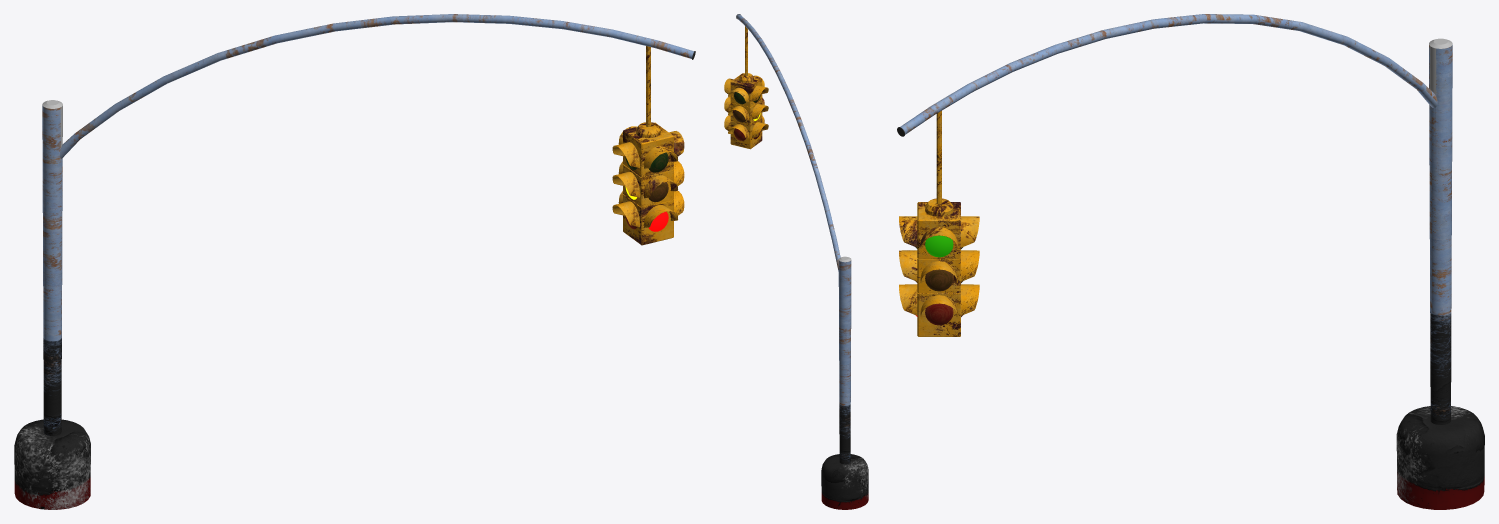
The model's file is Signal.glb.
The picture shows the model from 3 angles, left to right: view 1: azimuth 30°, elevation 25°; view 2: azimuth 150°, elevation 25°; view 3: azimuth 270°, elevation 25°; orthographic projection. The views are drawn at different scales.
Parts seen in each view (by area): view 1: Pole.001, StopLight.001, StopLight.003; view 2: Pole.001, StopLight.001, StopLight.003; view 3: Pole.001, StopLight.001, StopLight.003.
Part boxes in pixels (left/top/right/bottom): Pole.001: left=14, top=14, right=695, bottom=509; StopLight.001: left=612, top=46, right=684, bottom=245; StopLight.003: left=625, top=152, right=668, bottom=231; Pole.001: left=736, top=14, right=868, bottom=509; StopLight.001: left=724, top=26, right=768, bottom=149; StopLight.003: left=734, top=92, right=760, bottom=140; Pole.001: left=897, top=14, right=1484, bottom=509; StopLight.001: left=899, top=111, right=979, bottom=336; StopLight.003: left=915, top=235, right=962, bottom=325.
Bounding box in the file's own units: 4.37 × 5.01 × 4.37.
Materials: 3 (3 with a texture image).
